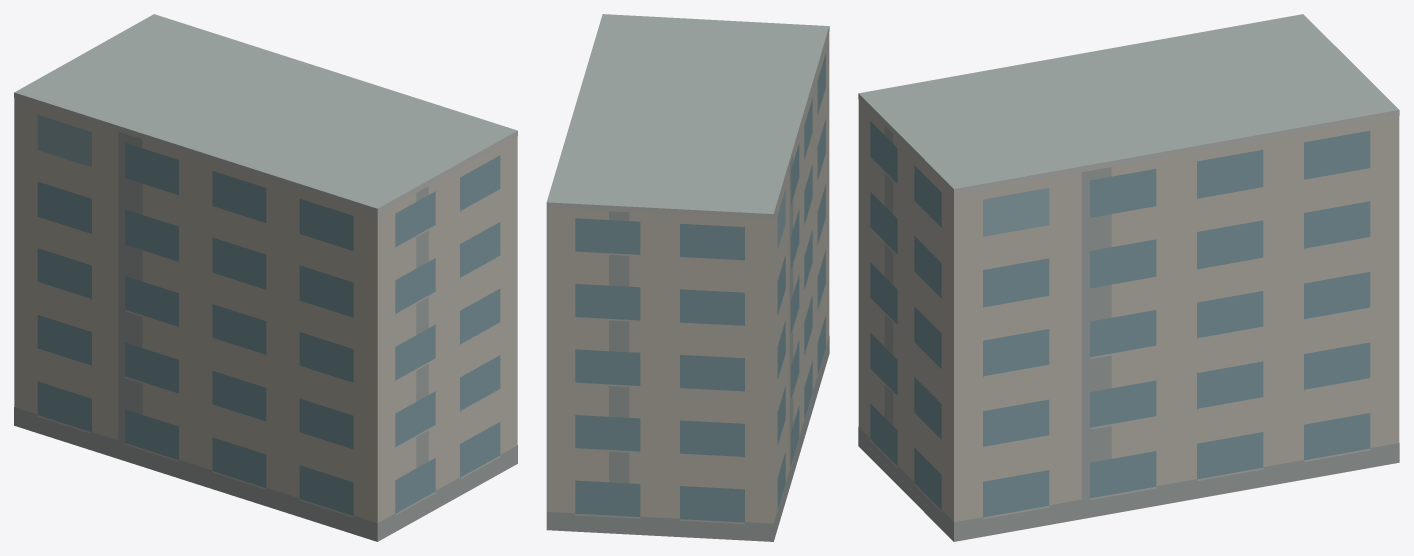
Rendered from survey-upis-32731593.glb.
3 views of the same model, side by side, from view 1: azimuth 30°, elevation 25°; view 2: azimuth 150°, elevation 25°; view 3: azimuth 270°, elevation 25° (orthographic). The views are drawn at different scales.
Parts seen in each view (by area): view 1: survey-upis-32731593.tmp; view 2: survey-upis-32731593.tmp; view 3: survey-upis-32731593.tmp.
Part boxes in pixels (x1,y1,x2,y2): survey-upis-32731593.tmp: [14, 14, 517, 541]; survey-upis-32731593.tmp: [546, 14, 829, 541]; survey-upis-32731593.tmp: [858, 14, 1399, 541].
Bounding box in the file's own units: 15.33 × 14.4 × 20.02.
